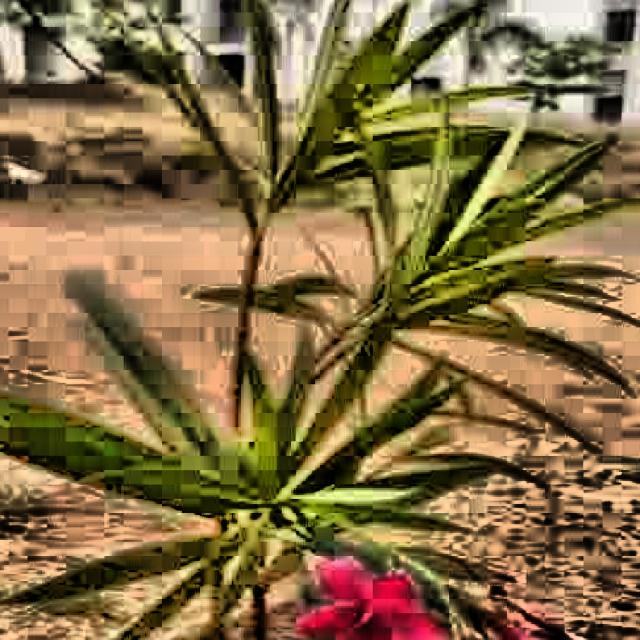Oleander: (1, 2, 640, 640)
